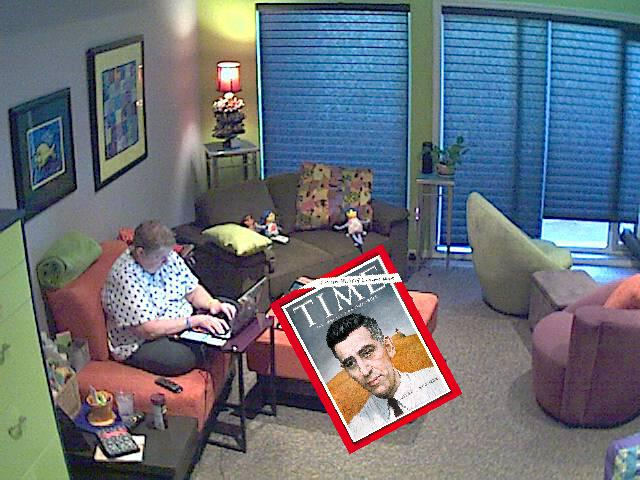times: (270, 243, 466, 454)
